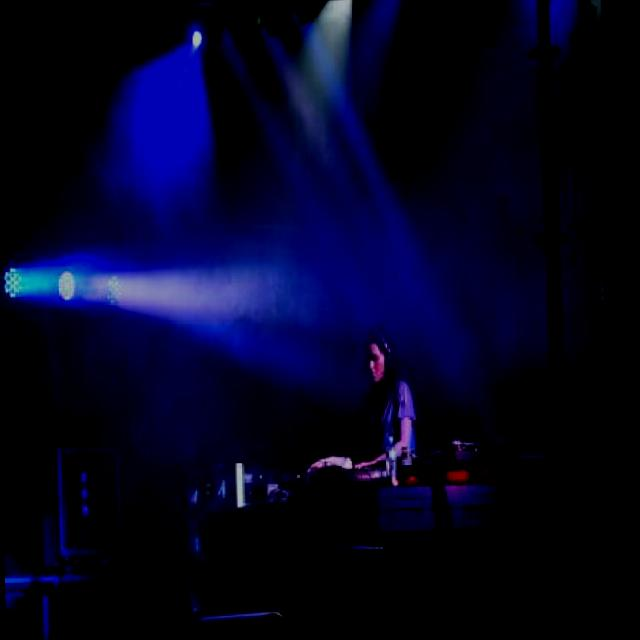Person: (300, 323, 418, 568)
